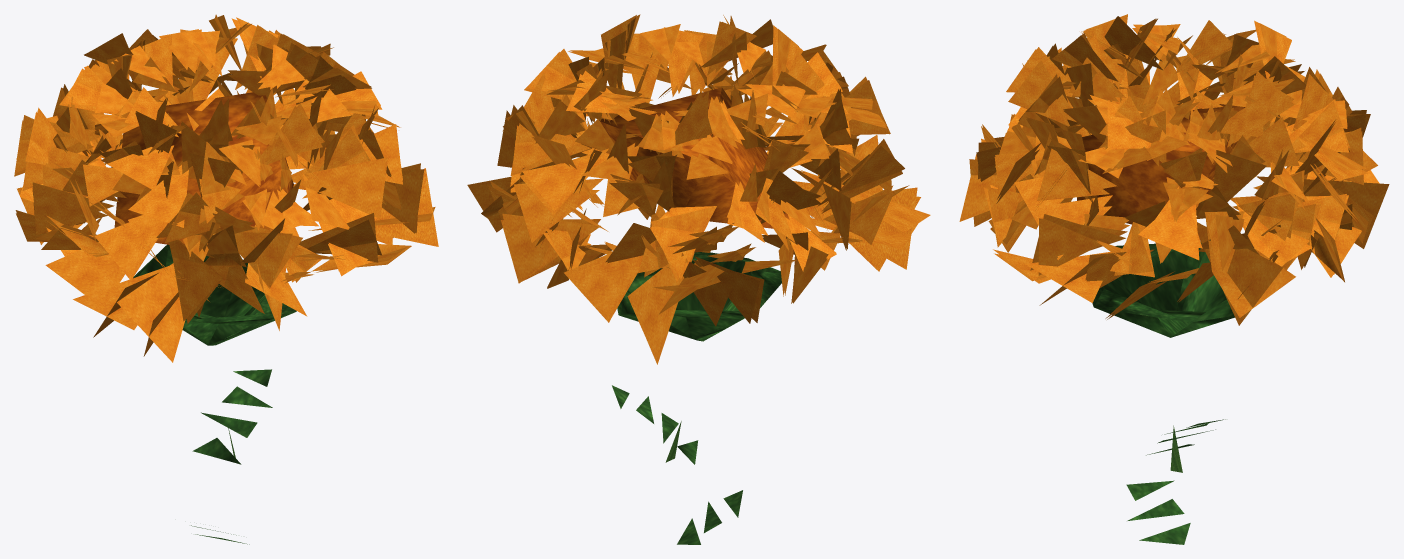
File: flor_baja_lod.obj
The picture shows the model from 3 angles, left to right: view 1: azimuth 30°, elevation 25°; view 2: azimuth 150°, elevation 25°; view 3: azimuth 270°, elevation 25°; orthographic projection.
Visible parts, largest first — view 1: Flor_Cempasuchil; view 2: Flor_Cempasuchil; view 3: Flor_Cempasuchil.
Boxes of the visible parts, x1,y1,x2,y2 form: Flor_Cempasuchil: (14, 14, 438, 544); Flor_Cempasuchil: (467, 14, 930, 544); Flor_Cempasuchil: (959, 14, 1389, 544).
Bounding box in the file's own units: 0.2406 × 0.3068 × 0.243.
4 materials, 4 textured.
